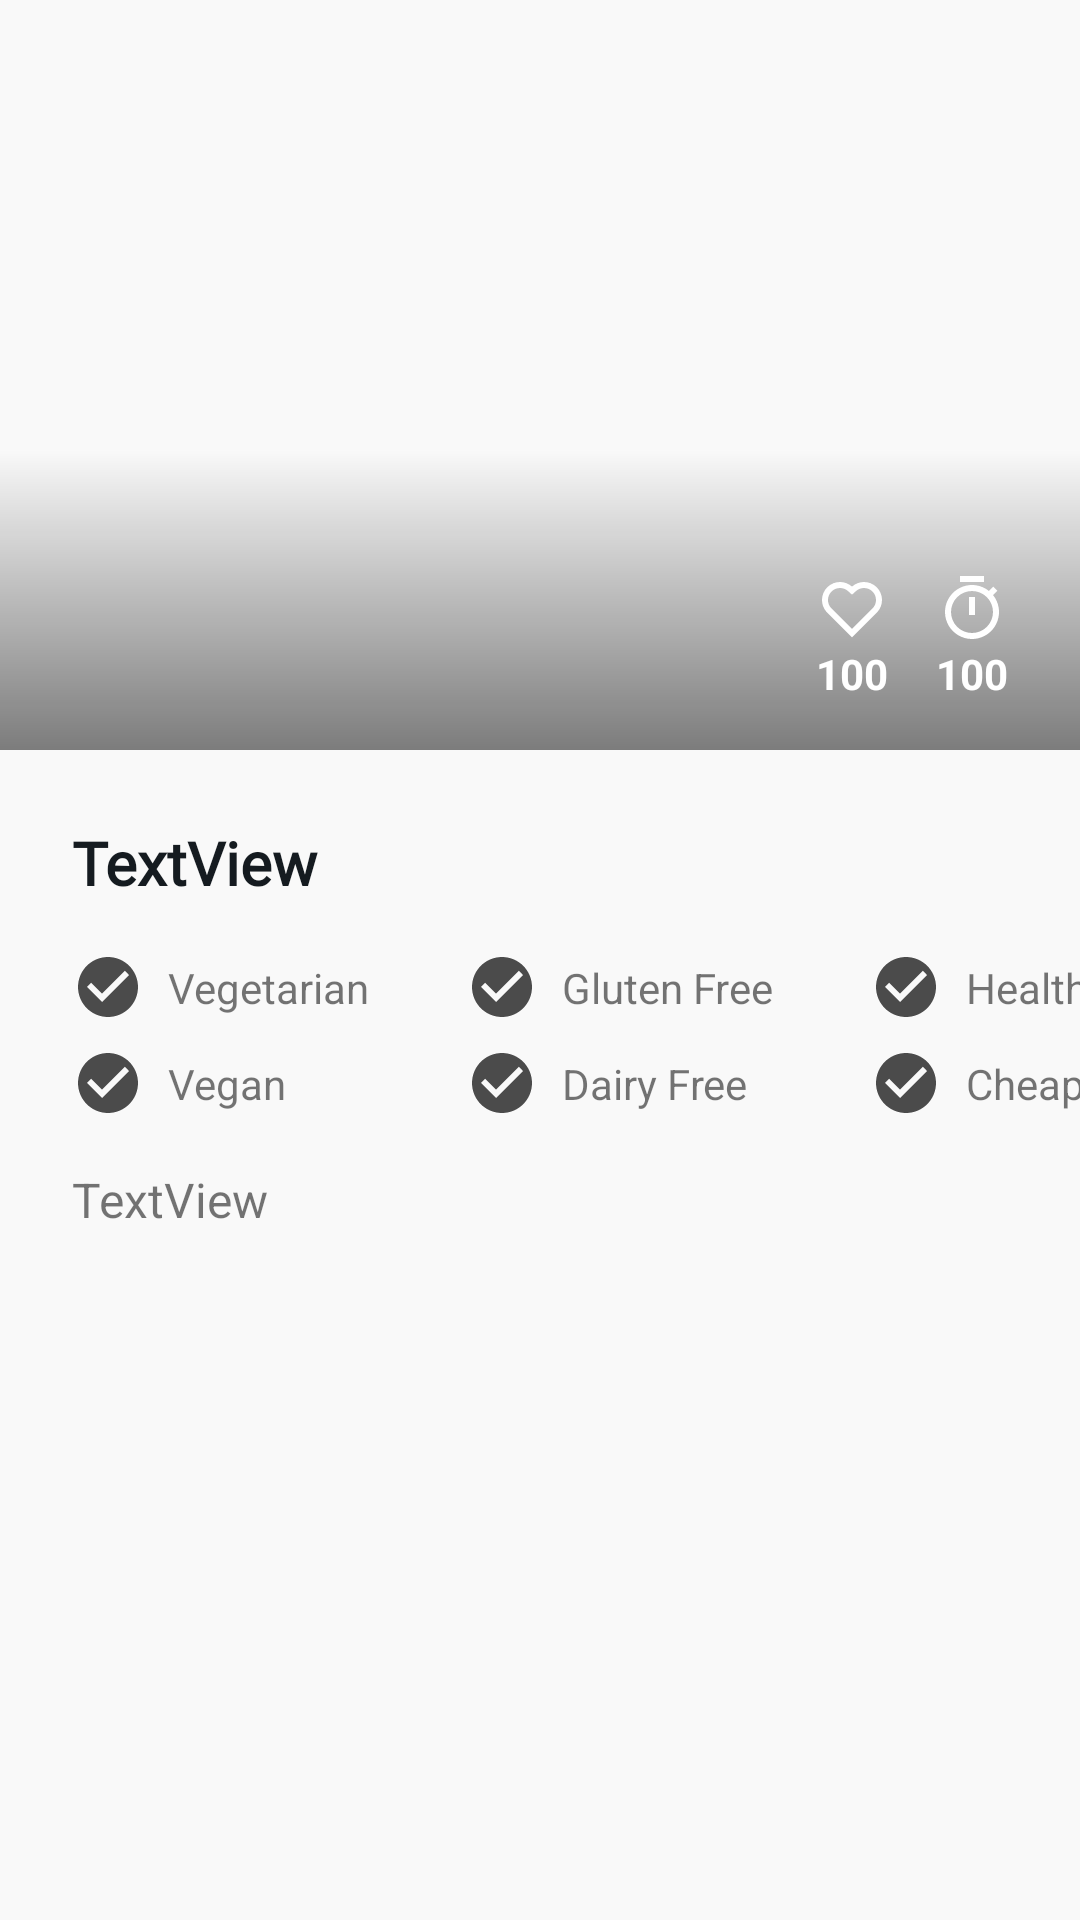

Locate icon controls on the screen. Image size 1080px×1920px, boxes as [left=x1, top=y1, right=x2, bottom=y2].
check: [left=78, top=957, right=138, bottom=1017], [left=472, top=957, right=532, bottom=1017], [left=876, top=957, right=936, bottom=1017], [left=78, top=1053, right=138, bottom=1113], [left=472, top=1053, right=532, bottom=1113], [left=876, top=1053, right=936, bottom=1113]
like: [left=816, top=582, right=888, bottom=645]
time: [left=936, top=576, right=1008, bottom=645]
